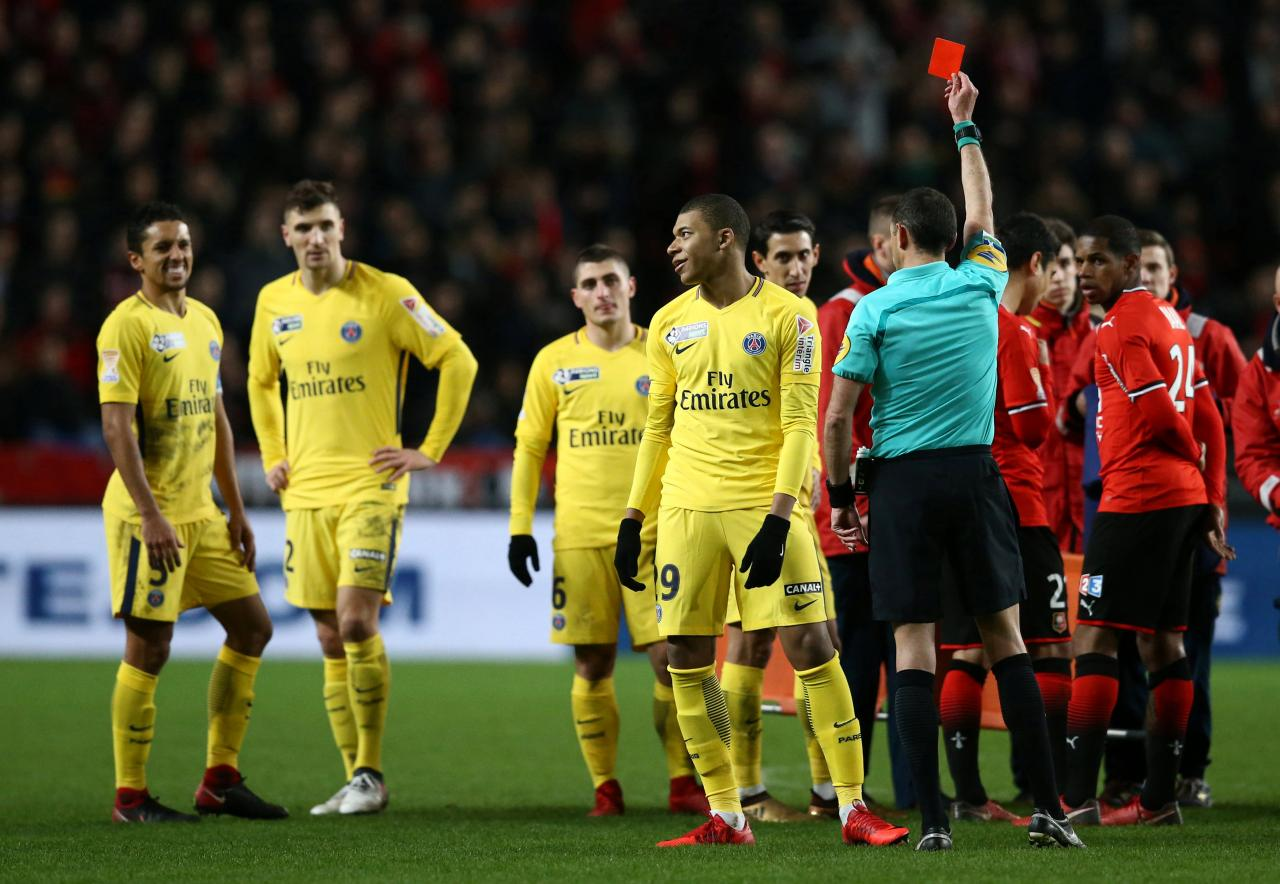red_card: (924, 28, 994, 126)
